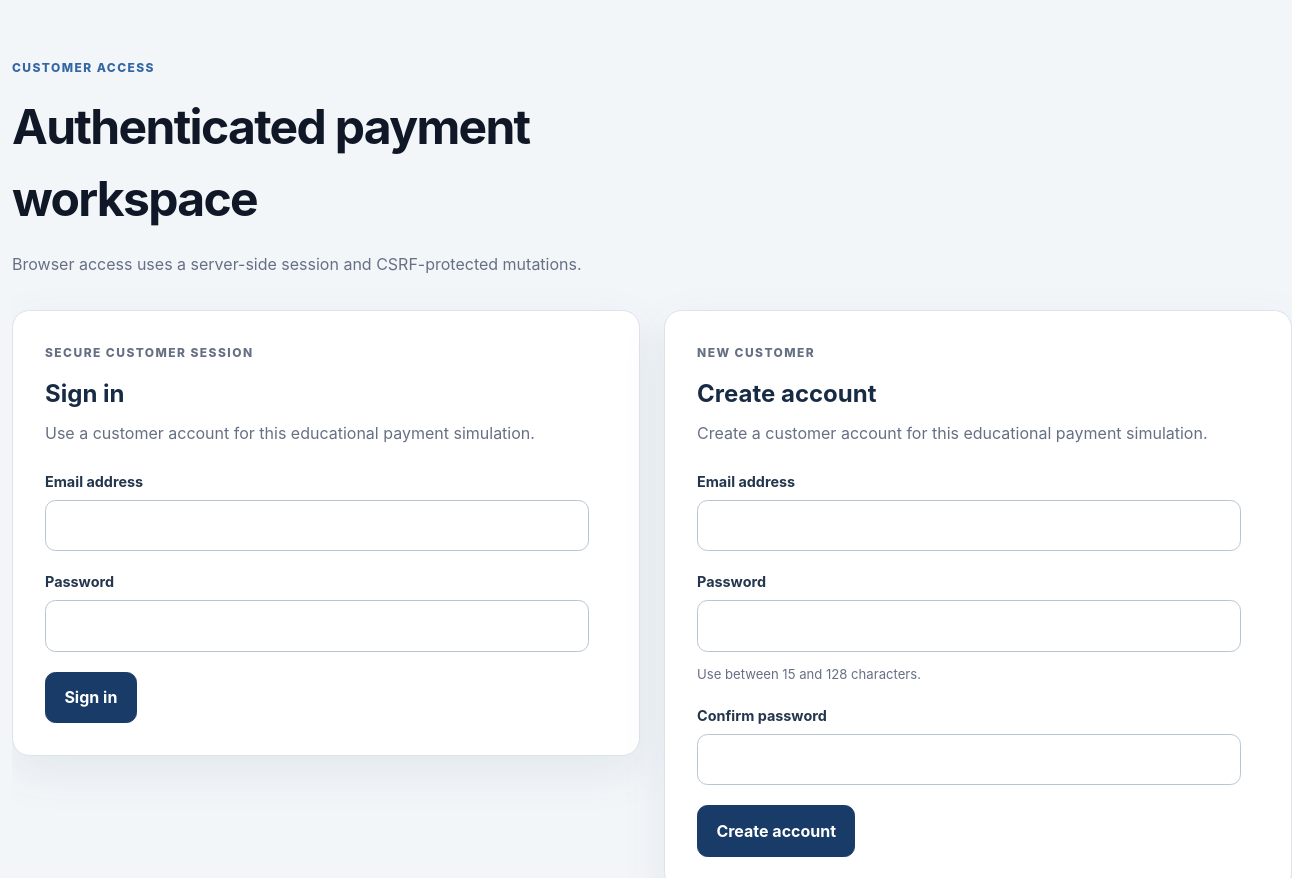
Test case: SessionBoundary › rejects mismatched registration passwords before submitting
Expected: the heading "Create account" is shown, left=697, top=379, right=876, bottom=408
Type "new.customer@example.com" into the field labelled "Email address" below "New customer" at [969, 525], box left=697, top=500, right=1241, bottom=551
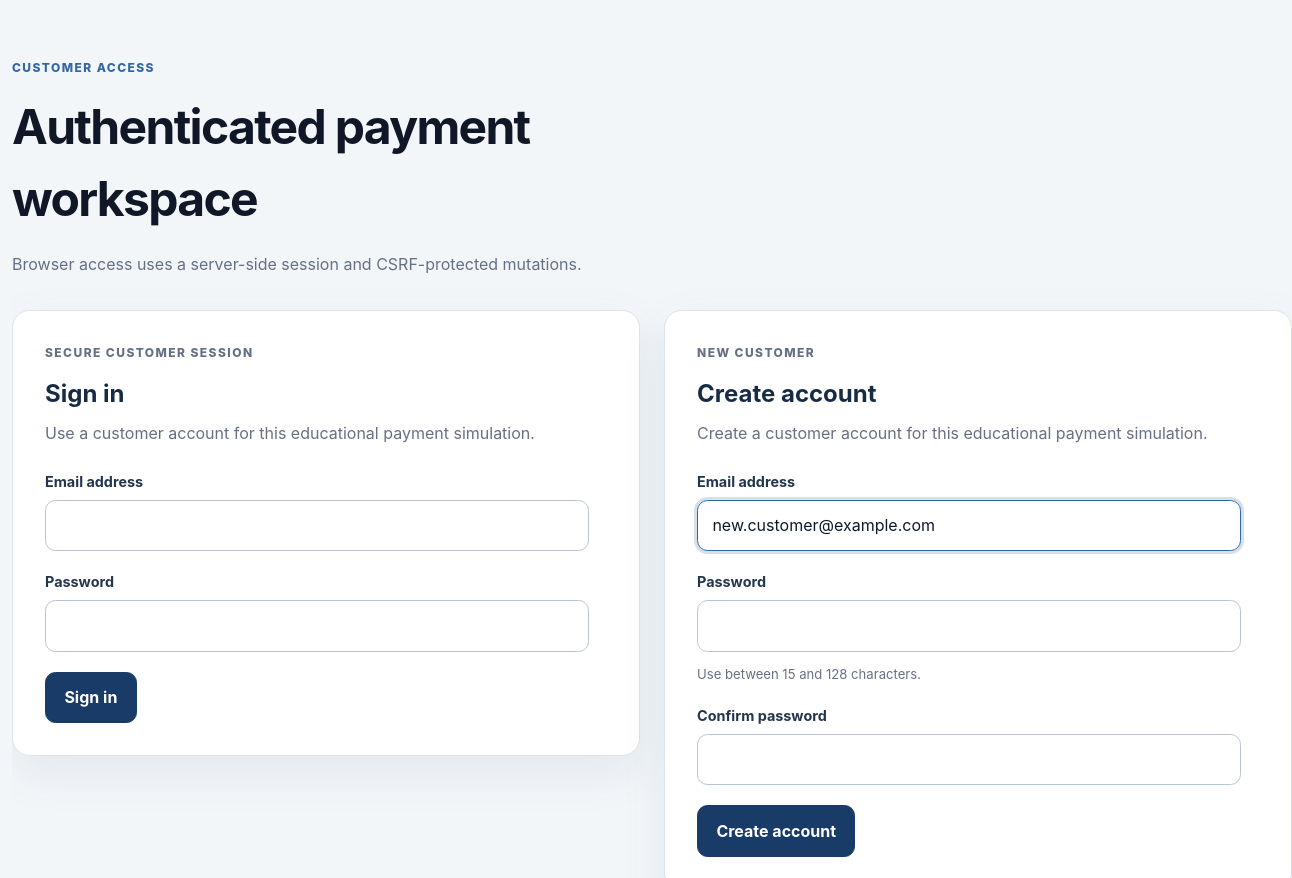
Type "LongSecureDemoPassword2026!" into the password field labelled "Password" below "New customer" at [969, 626], box left=697, top=600, right=1241, bottom=652
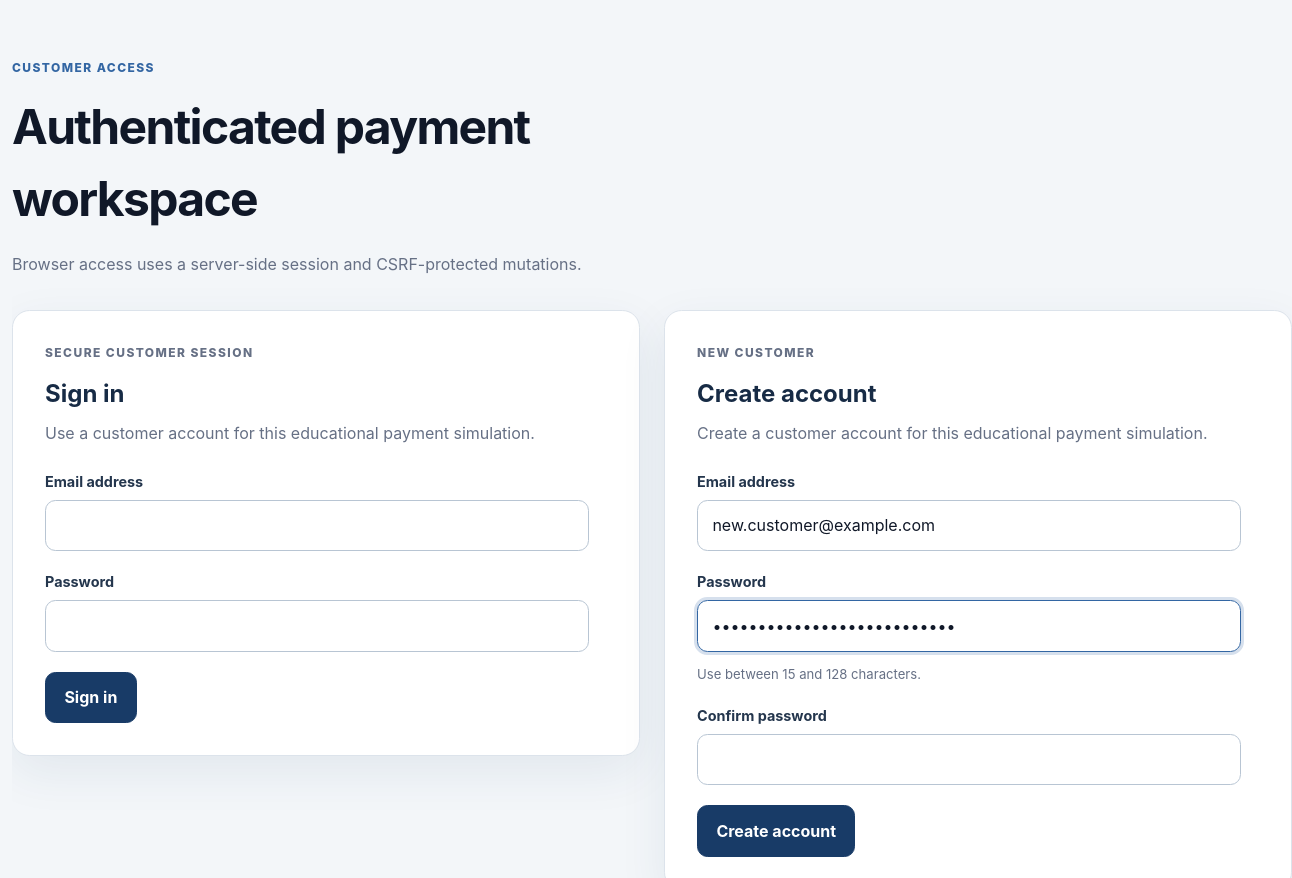
Type "DifferentSecurePassword2026!" into the password field labelled "Confirm password" at [969, 759], box left=697, top=734, right=1241, bottom=785
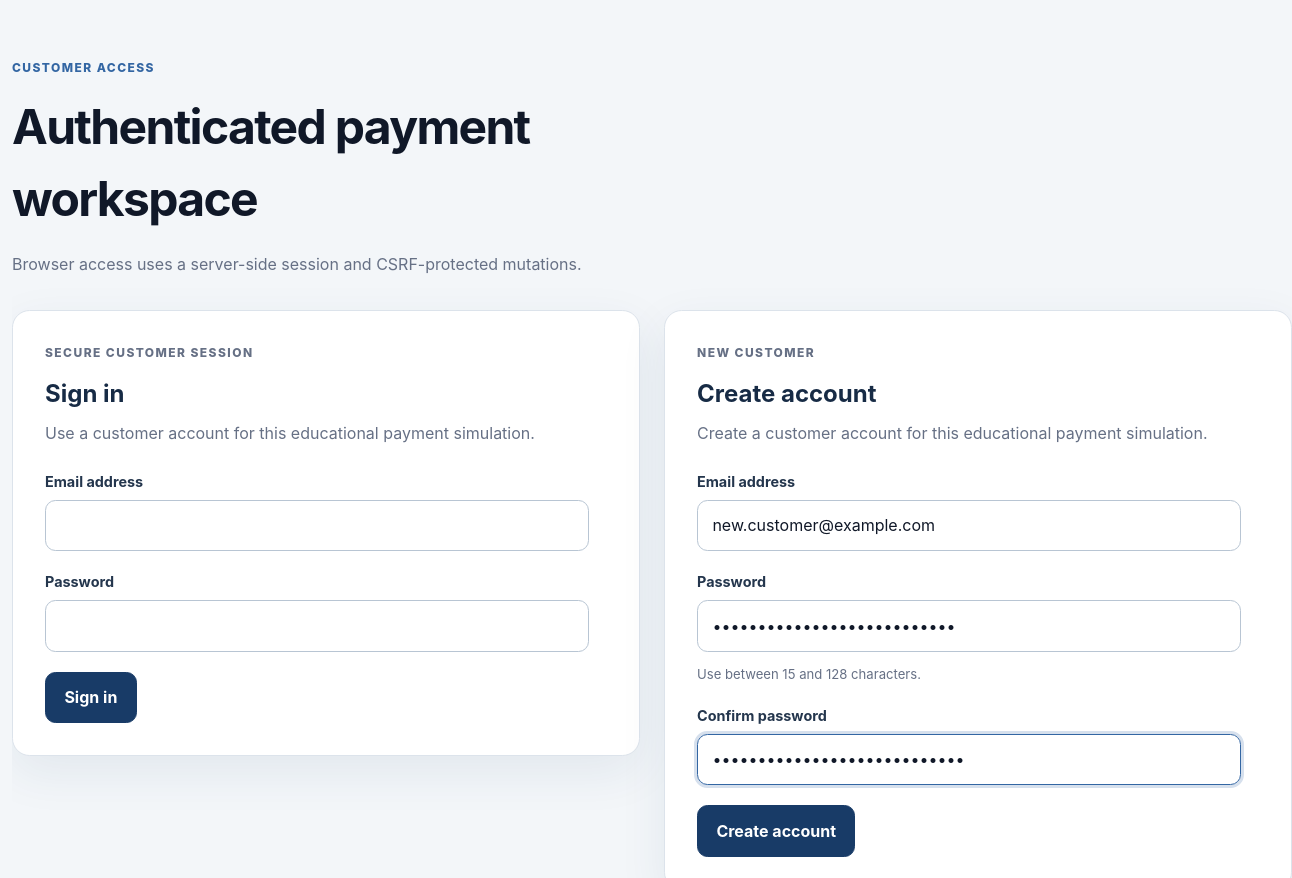
Click the button "Create account" at [776, 831], box left=697, top=805, right=856, bottom=857
(page scrolled)
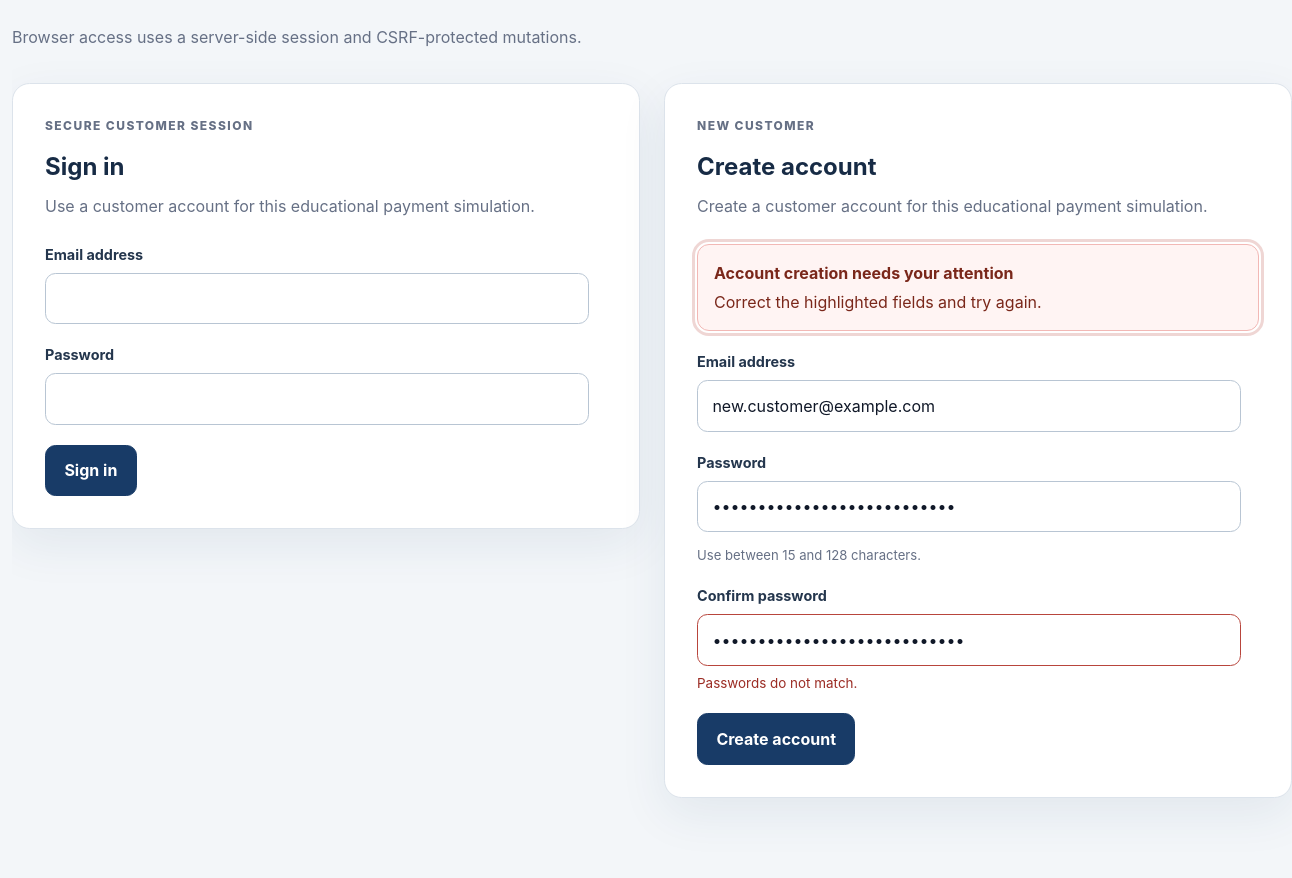
Expected: the text "Passwords do not match." is shown, left=697, top=675, right=857, bottom=691
